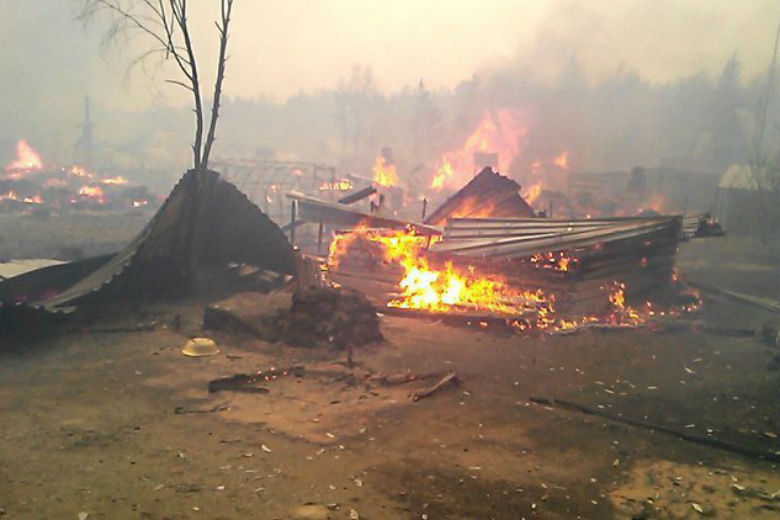fire: (379, 229, 515, 318)
smoke: (241, 14, 780, 161), (9, 5, 180, 166)
